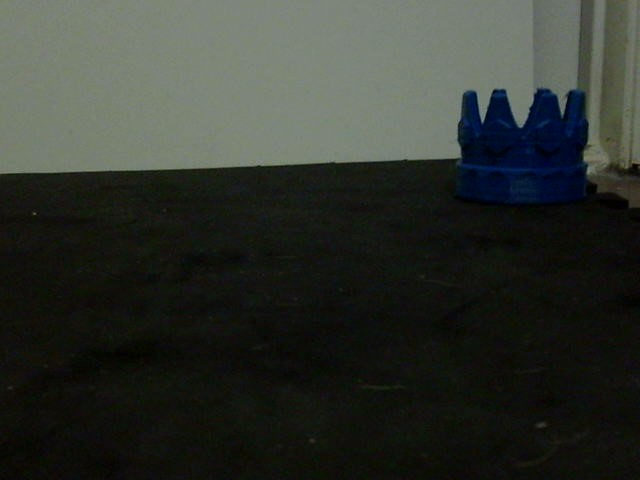crown: (454, 85, 592, 207)
